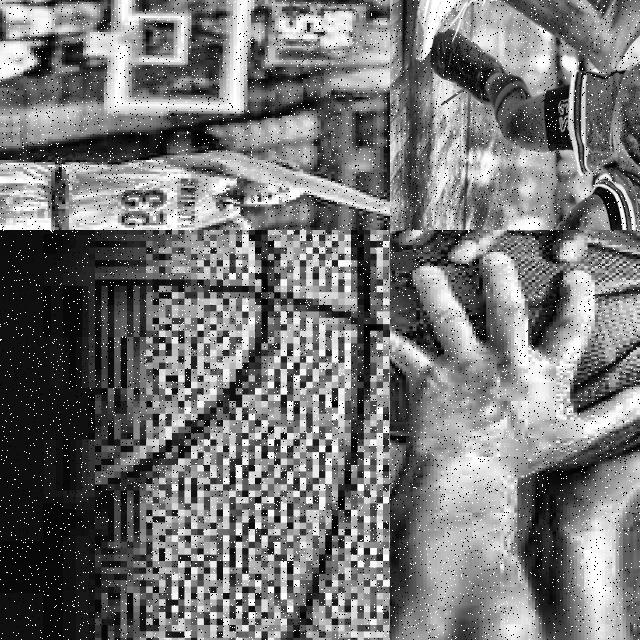Basketball: (569, 230, 640, 410), (390, 230, 482, 354), (492, 230, 566, 343)
